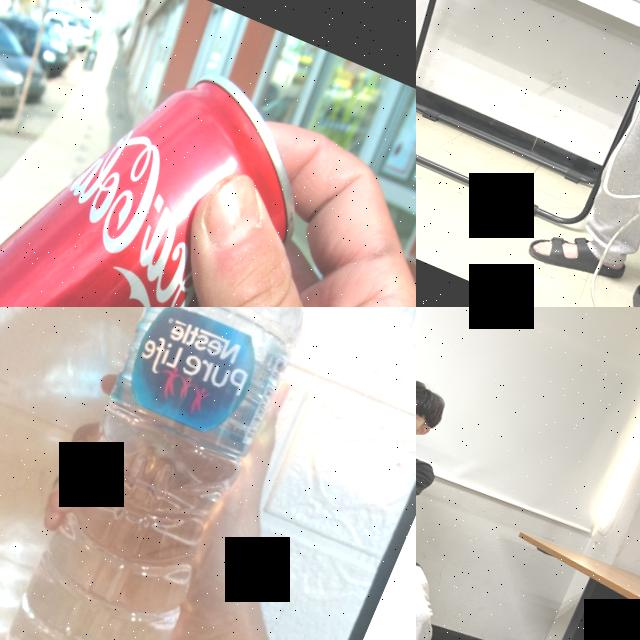bottle: (0, 307, 363, 640)
can: (0, 0, 340, 307)
